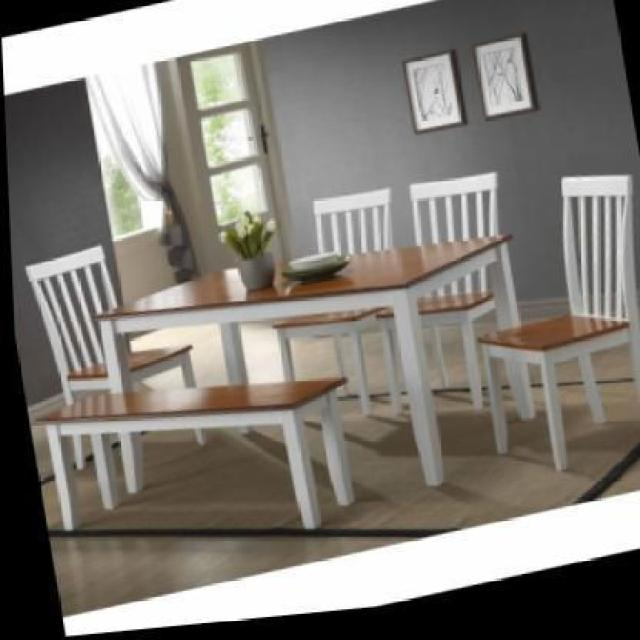tables: (90, 232, 522, 496)
